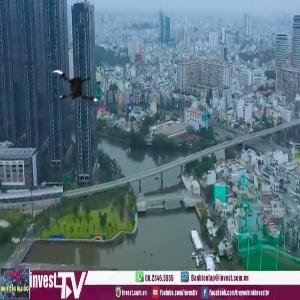drone: (45, 60, 107, 122)
